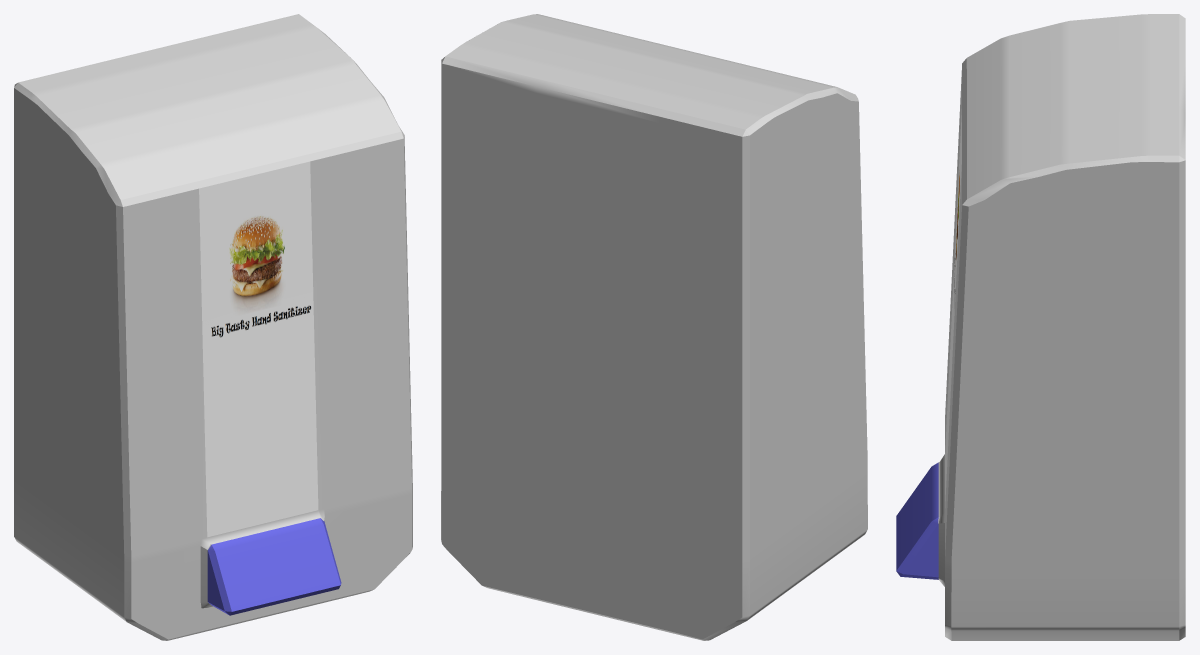
Rendered from Hand Sanitizer.fbx.
3 views of the same model, side by side, from view 1: azimuth 30°, elevation 25°; view 2: azimuth 150°, elevation 25°; view 3: azimuth 270°, elevation 25° (orthographic). The views are drawn at different scales.
Parts seen in each view (by area): view 1: Hand_sanitizer; view 2: Hand_sanitizer; view 3: Hand_sanitizer.
Part boxes in pixels (box(x1,y1,x2,y2)): Hand_sanitizer: box(14, 14, 412, 640); Hand_sanitizer: box(441, 14, 867, 640); Hand_sanitizer: box(896, 14, 1185, 640).
Bounding box in the file's own units: 0.976 × 1.57 × 0.82.
